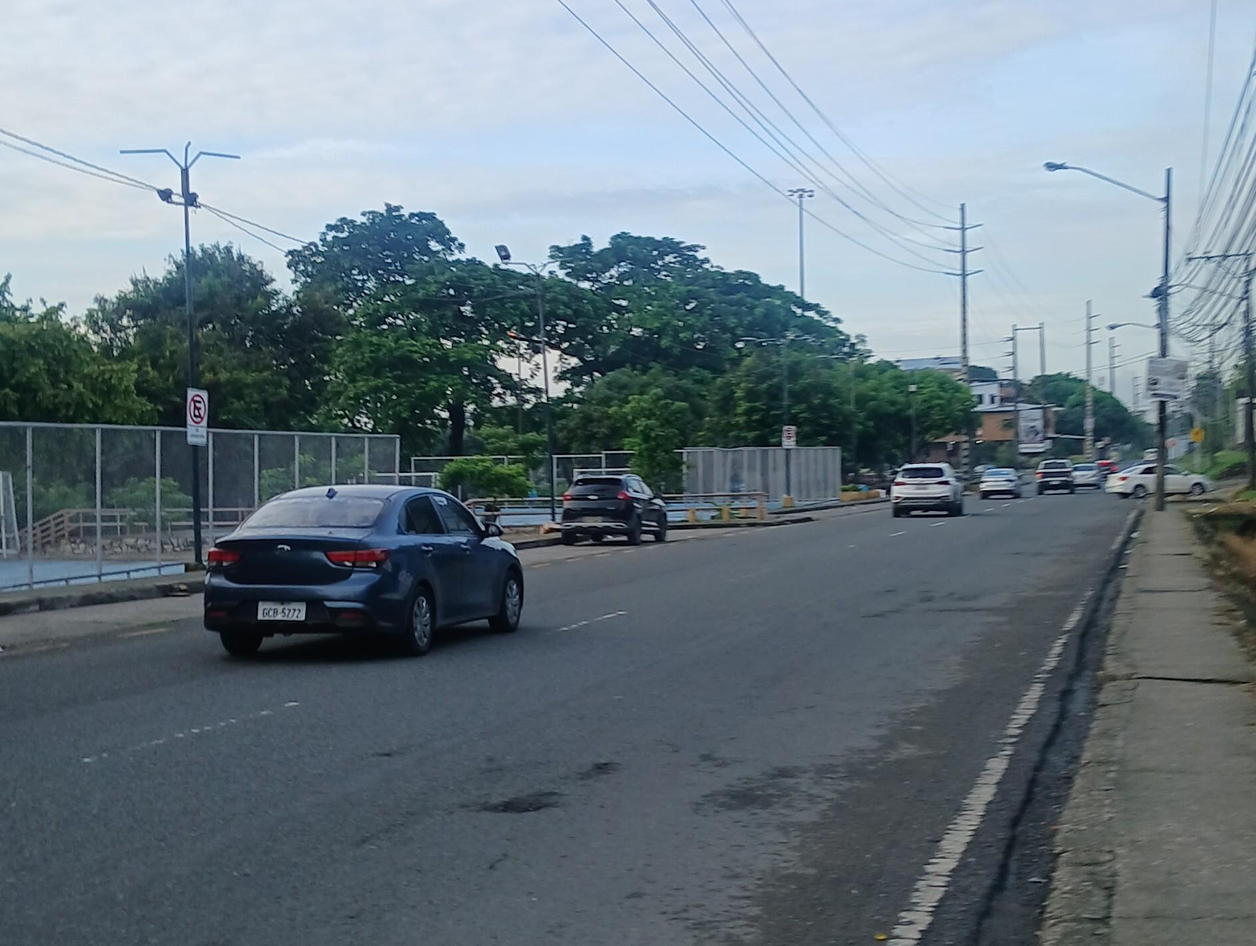license_plate: (257, 601, 306, 621), (583, 516, 605, 522)
